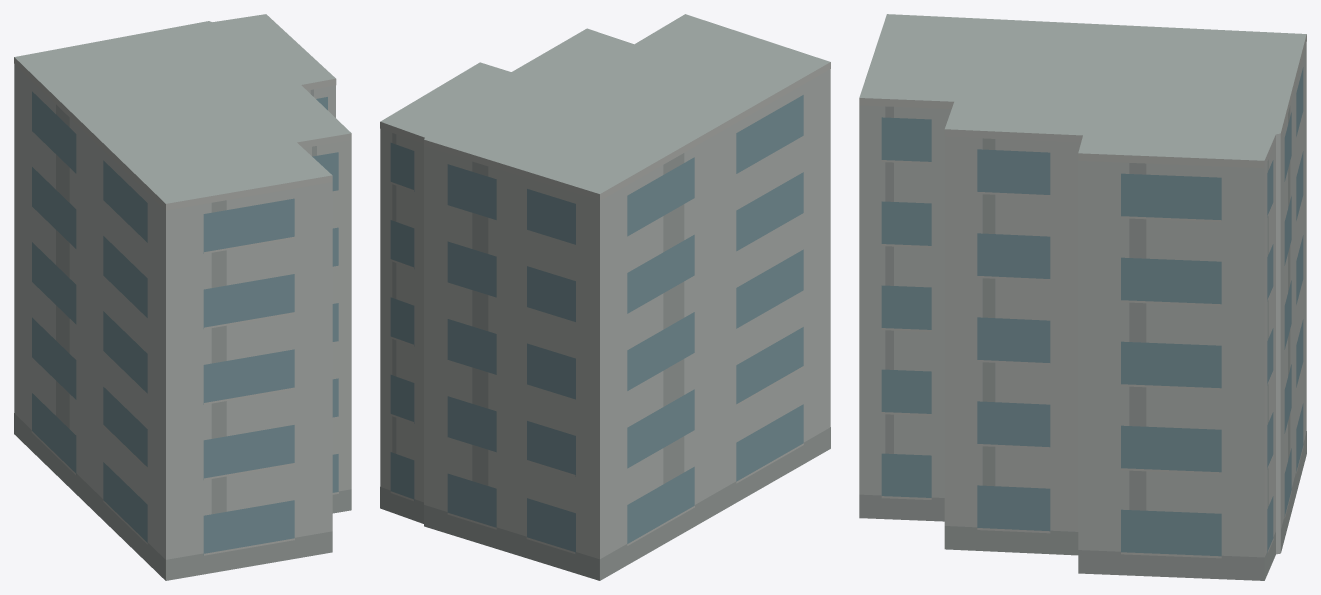
The model's file is survey-upis-32929445.glb.
3 views of the same model, side by side, from view 1: azimuth 30°, elevation 25°; view 2: azimuth 150°, elevation 25°; view 3: azimuth 270°, elevation 25° (orthographic). The views are drawn at different scales.
Parts seen in each view (by area): view 1: survey-upis-32929445.tmp; view 2: survey-upis-32929445.tmp; view 3: survey-upis-32929445.tmp.
Part boxes in pixels (x1,y1,x2,y2): survey-upis-32929445.tmp: (14, 14, 351, 580); survey-upis-32929445.tmp: (380, 14, 830, 580); survey-upis-32929445.tmp: (859, 14, 1306, 580).
Bounding box in the file's own units: 10.2 × 13.6 × 13.14.
